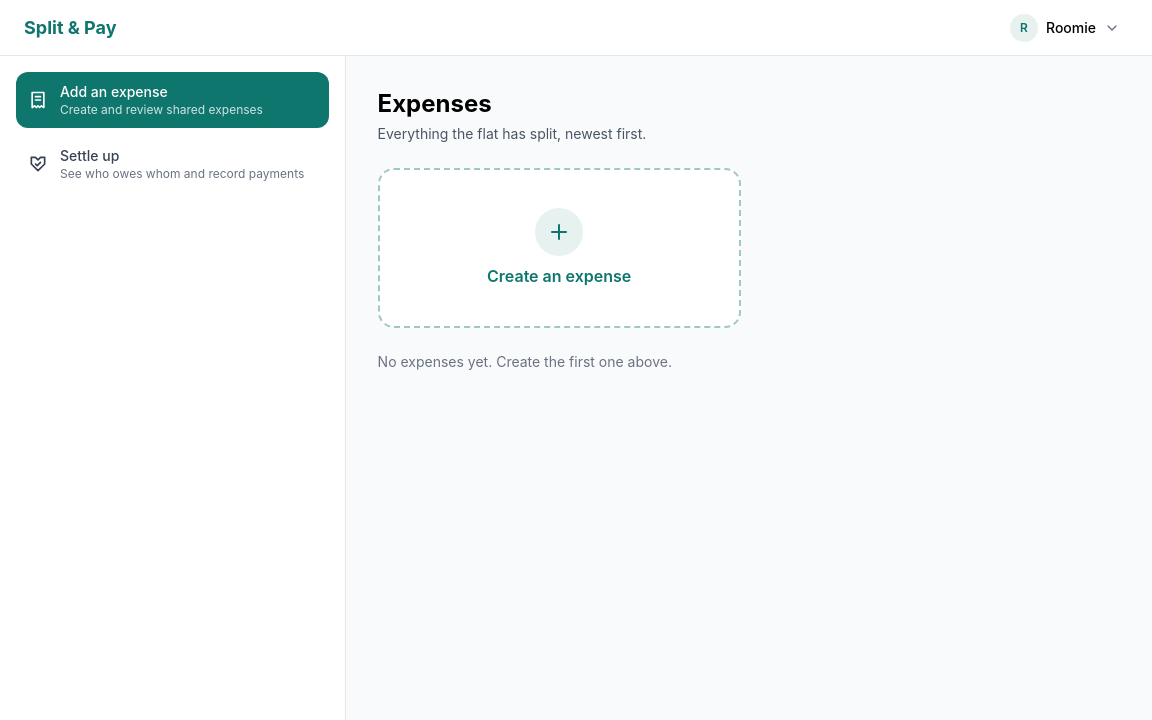
App › logs out from the user menu
Click the button "R Roomie".
click(1067, 28)  # box [1006,10,1128,46]
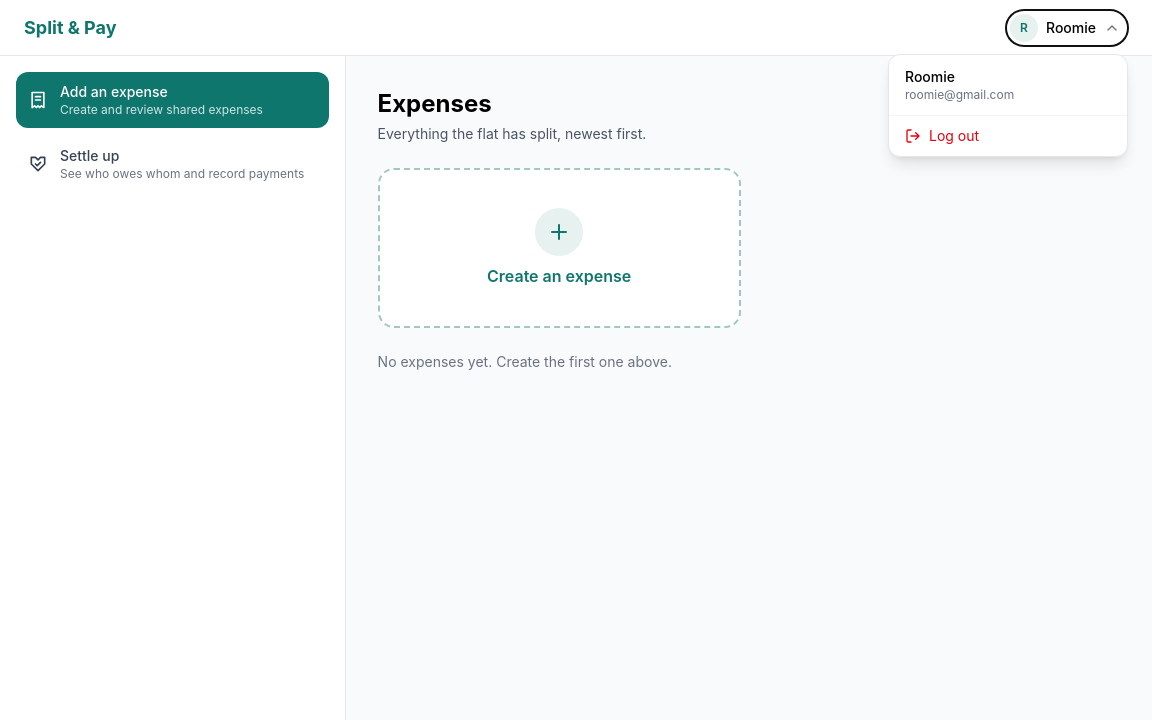
Click the menu item "Log out".
click(1008, 136)  # box [889,116,1127,156]
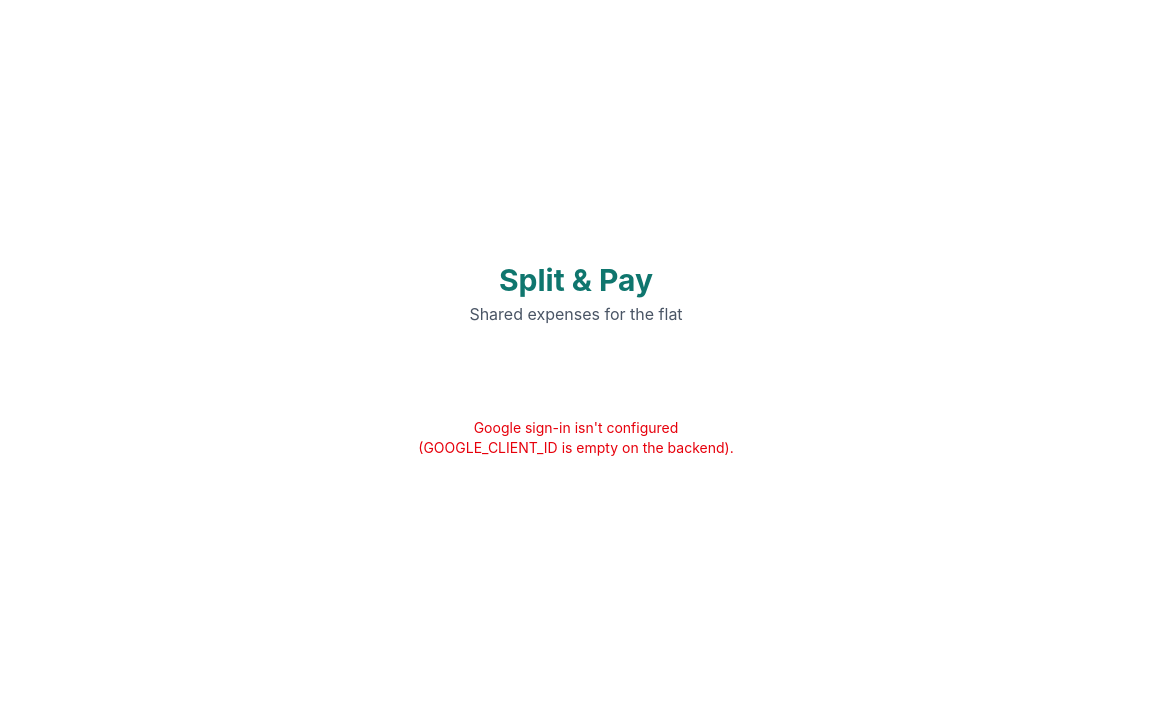
Result: the text "Shared expenses for the flat" is shown at [469,302,683,326]
